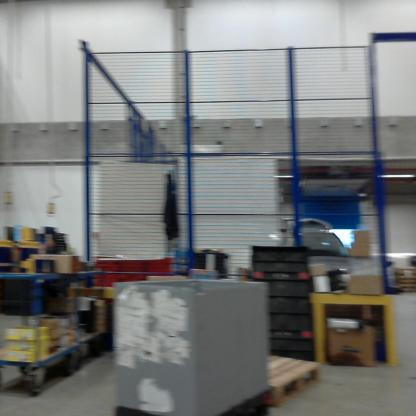pallet: (249, 346, 333, 403), (392, 264, 416, 271), (393, 271, 416, 277), (402, 286, 416, 293), (399, 276, 416, 281), (399, 281, 416, 286)
